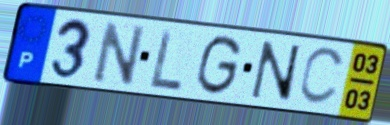3: (47, 15, 98, 83)
C: (296, 46, 348, 108)
G: (193, 34, 244, 98)
L: (149, 26, 185, 92)
N: (91, 19, 148, 87), (249, 39, 303, 105)
